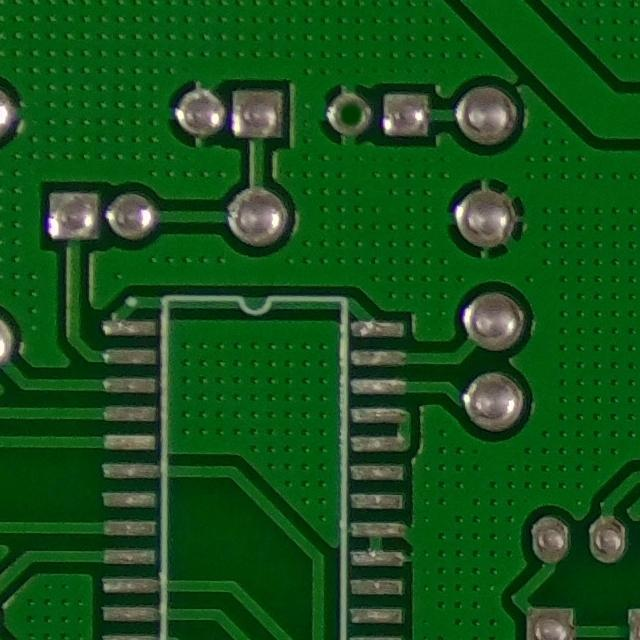missing_hole: (326, 83, 375, 142)
